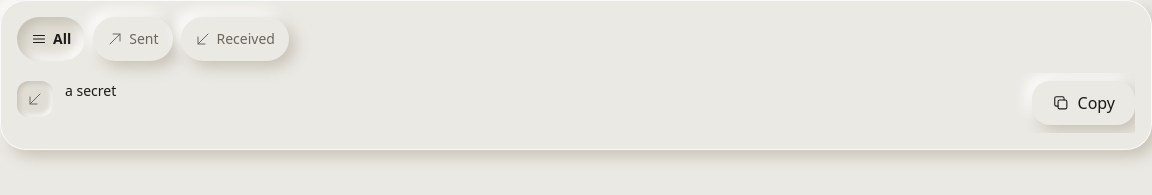
Test: TransferRecord: copying a received note › surfaces a failed copy instead of looking identical to a successful one
What coordinates should you click on to do the following:
click the button with aria-label "copy received note 1"
I would click on:
 (1083, 103)
Its box is [1032,81,1135,125].
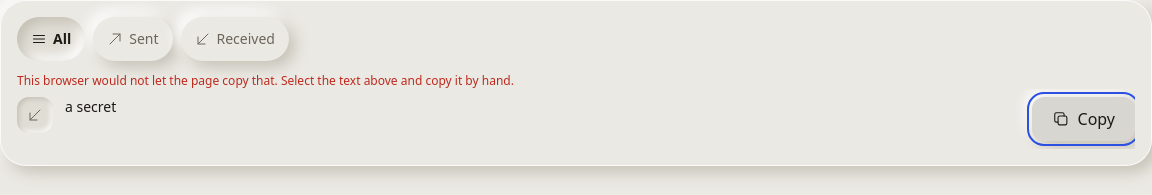
Expected: the message shows "would not let", [17,72,514,89]
